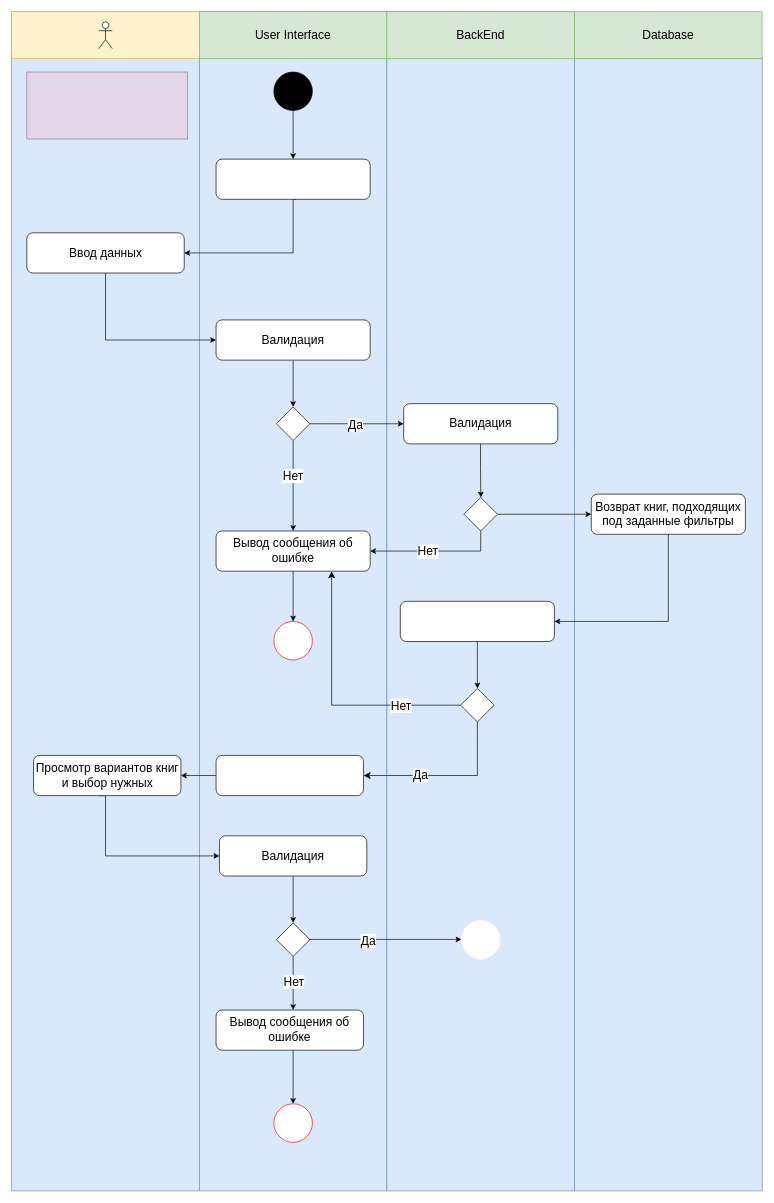
The diagram is 774 pixels wide and 1203 high, and some of its shapes have lost their labels. Here are the shapes that lost their labels. From the top down, the box of each, then its label:
(26, 71, 188, 139): Роль: Читатель Деятельность: поиск книги
(215, 158, 370, 199): Отображение фильтров поиска книг
(400, 601, 554, 642): Проверка существования книг
(215, 755, 363, 796): Отображение найденных книг
